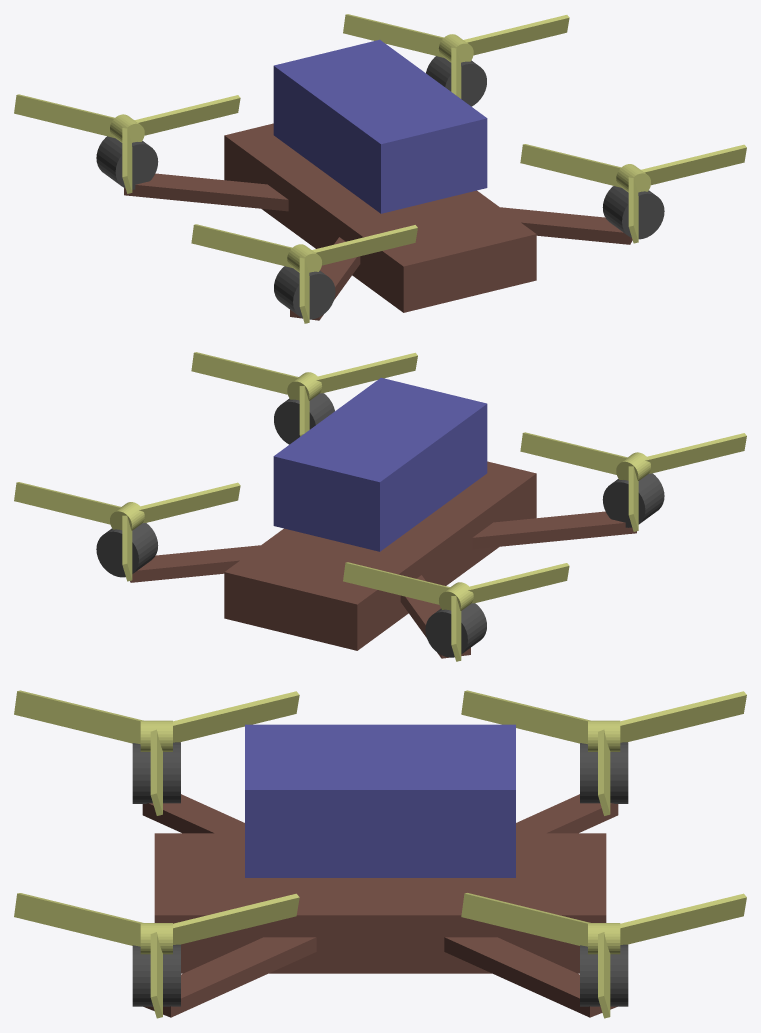
The model's file is Solleva.glb.
The picture shows the model from 3 angles, top to bottom: view 1: azimuth 30°, elevation 25°; view 2: azimuth 150°, elevation 25°; view 3: azimuth 270°, elevation 25°; orthographic projection. The views are drawn at different scales.
Visible parts, largest first — view 1: battery, frame_body, prop_0, prop_3, prop_2, prop_1, arm_3, arm_0, motor_0, motor_2, motor_3, motor_1 (+1 smaller); view 2: battery, frame_body, prop_3, prop_1, prop_2, prop_0, arm_2, arm_1, motor_1, motor_3, motor_2, motor_0 (+1 smaller); view 3: battery, frame_body, prop_1, prop_0, prop_2, prop_3, arm_1, arm_0, arm_3, arm_2, motor_1, motor_0 (+2 smaller).
Part boxes in pixels (x1,y1,x2,y2): battery: (273,39,487,213); frame_body: (224,123,536,312); prop_0: (520,144,746,243); prop_3: (14,94,240,193); prop_2: (191,224,417,323); prop_1: (343,14,569,98); arm_3: (124,173,288,211); arm_0: (500,207,632,244); motor_0: (602,186,664,239); motor_2: (274,266,335,319); motor_3: (96,136,158,189); motor_1: (426,56,486,106); battery: (273,377,487,551); frame_body: (224,461,536,650); prop_3: (343,562,569,661); prop_1: (14,482,240,581); prop_2: (520,432,746,531); prop_0: (191,352,417,436); arm_2: (472,511,636,549); arm_1: (130,545,260,582); motor_1: (96,523,158,577); motor_3: (425,603,486,657); motor_2: (602,473,664,527); motor_0: (274,393,334,444); battery: (245,724,515,877); frame_body: (154,833,606,973); prop_1: (461,893,746,1018); prop_0: (14,893,299,1018); prop_2: (14,690,299,815); prop_3: (461,690,746,815); arm_1: (444,937,617,1017); arm_0: (143,937,316,1017); arm_3: (516,794,618,833); arm_2: (142,794,244,833); motor_1: (580,944,628,1006); motor_0: (132,944,180,1006).
Size of the model in its own units: 0.2251 by 0.06 by 0.2271.
